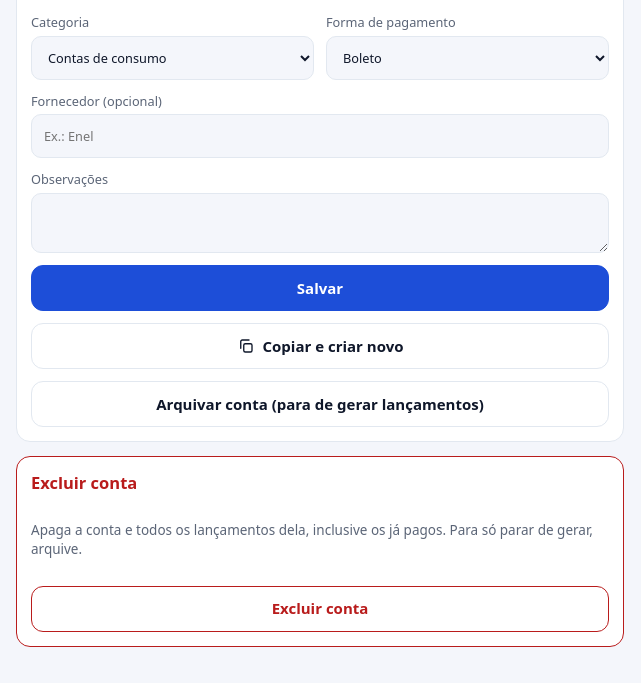
Excluir conta › cancelar não apaga nada
(page scrolled)
Click the button "Excluir conta".
click(320, 608)  # box [31,586,609,632]
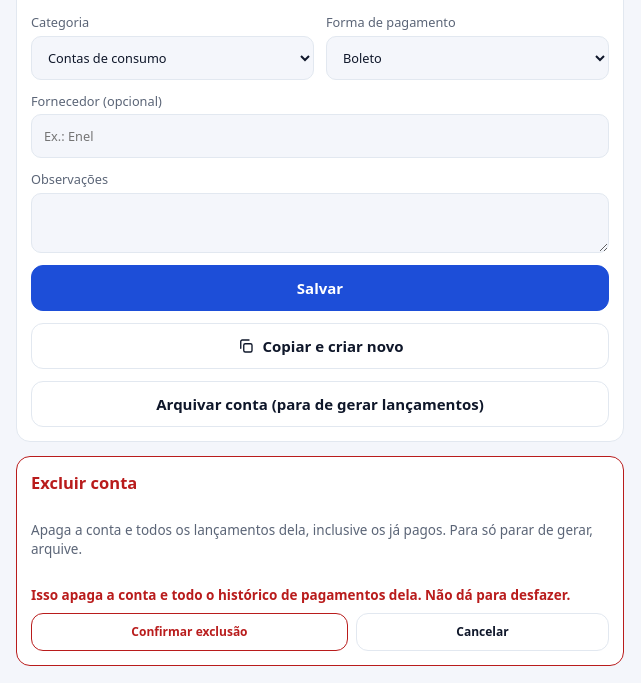
Click the button "Cancelar".
click(482, 632)  # box [356,613,609,651]
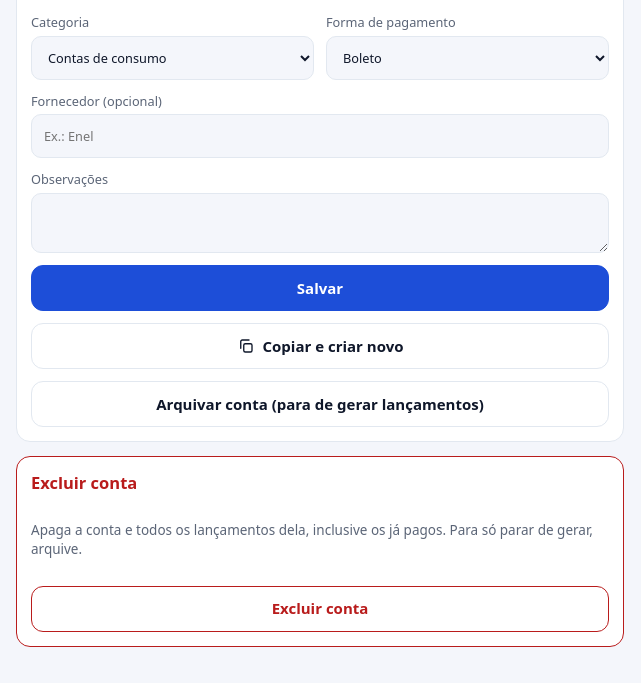
Now the button "Excluir conta" is shown, box [31,586,609,632]
